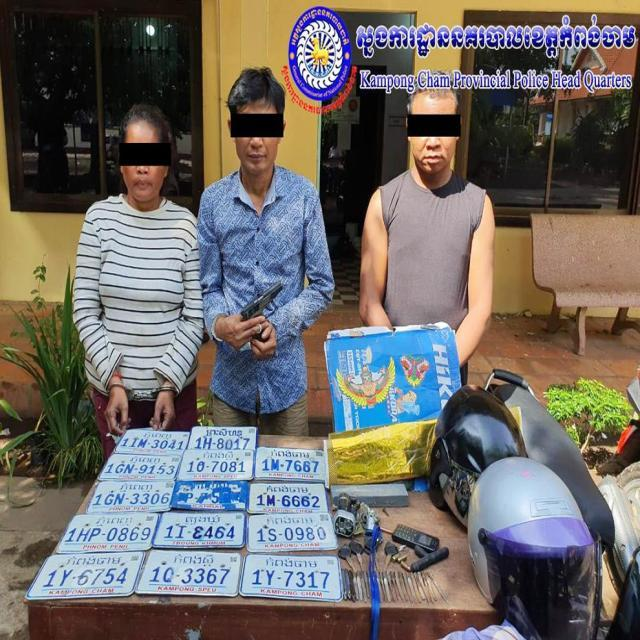Kampong_Cham: (266, 557, 318, 570), (66, 556, 122, 566), (267, 515, 312, 526), (271, 449, 309, 459), (267, 485, 309, 493)
Kampong_Speu: (174, 553, 214, 567), (203, 451, 233, 461)
Kandal: (193, 481, 230, 492)
Phnom_Penh: (96, 516, 132, 526), (119, 483, 152, 492), (130, 456, 160, 465), (144, 432, 172, 440)
Preah_Sihanouk: (206, 427, 243, 438)
Tboung_Khmum: (185, 515, 222, 525)
